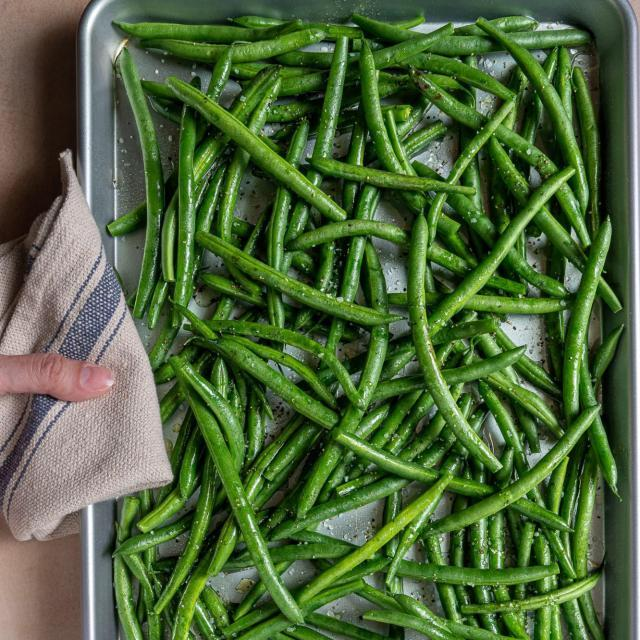Beans: (98, 6, 627, 639)
